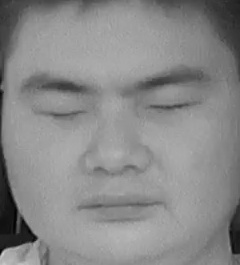blink: (35, 98, 89, 130), (147, 93, 202, 122)
mouth: (72, 183, 163, 231)
